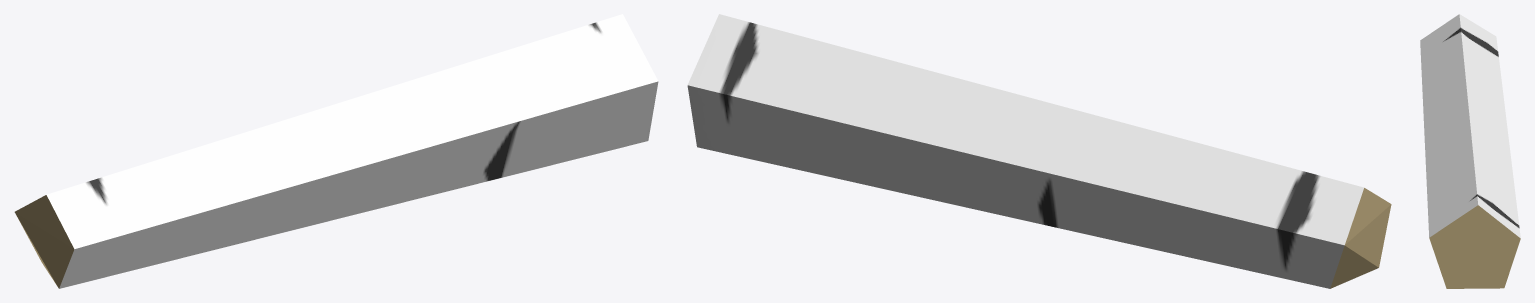
Rendered from Birch_Log_02.fbx.
3 renders of one model, left to right at view 1: azimuth 30°, elevation 25°; view 2: azimuth 150°, elevation 25°; view 3: azimuth 270°, elevation 25°, orthographic. The views are drawn at different scales.
Parts seen in each view (by area): view 1: Birch_Log_02; view 2: Birch_Log_02; view 3: Birch_Log_02.
Boxes of the visible parts, box(x1,y1,x2,y2) form: Birch_Log_02: box(14, 14, 658, 288); Birch_Log_02: box(687, 14, 1391, 288); Birch_Log_02: box(1420, 14, 1520, 288).
Size of the model in its own units: 169 by 30.15 by 33.35.
